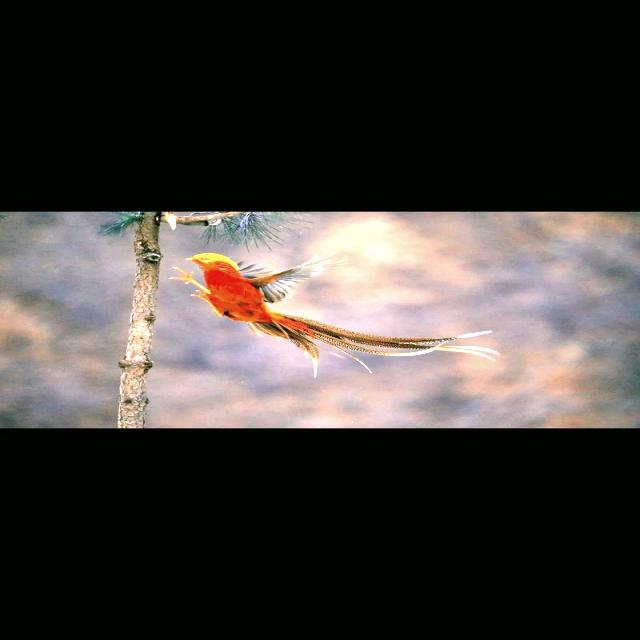Chrysolophus pictus feather: (248, 311, 501, 379)
